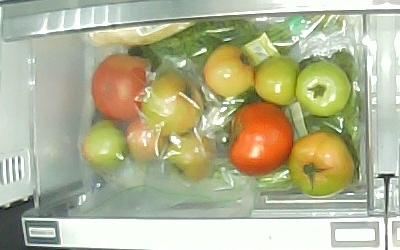tomato: (230, 103, 294, 176), (289, 132, 354, 196), (296, 61, 352, 117), (204, 44, 256, 96), (255, 56, 301, 105)
tomato_vinyl: (141, 72, 204, 135), (92, 54, 152, 120), (81, 120, 129, 168), (169, 136, 217, 181), (127, 121, 170, 163)
